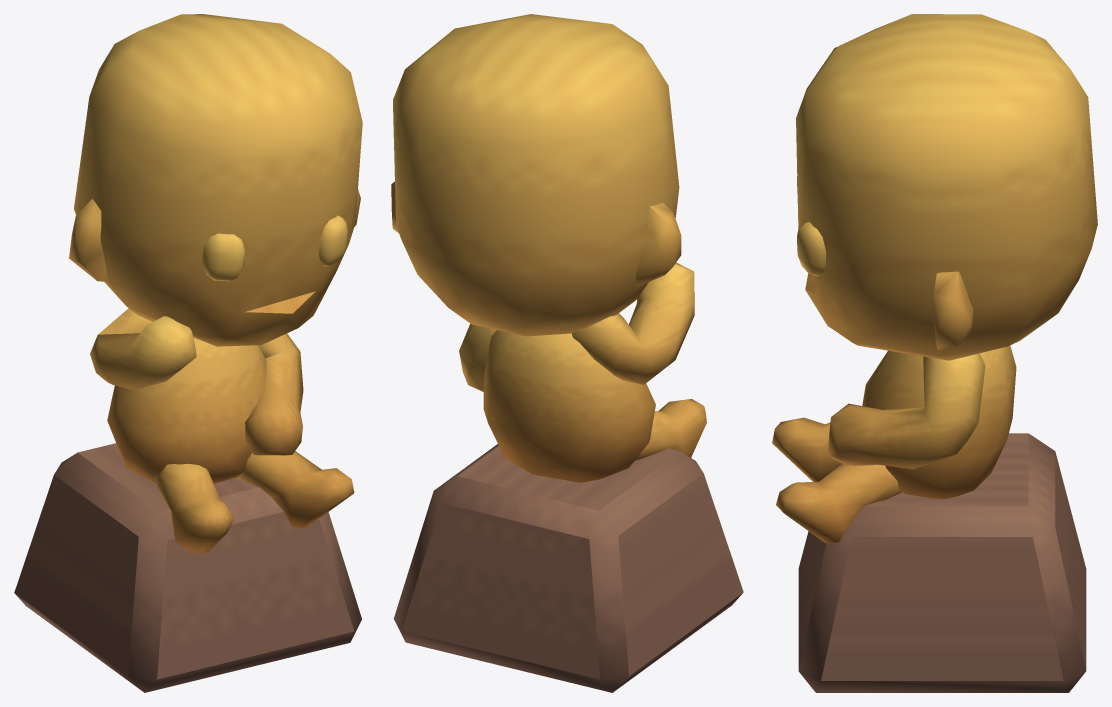
File: idol-b.glb
3 views of the same model, side by side, from view 1: azimuth 30°, elevation 25°; view 2: azimuth 150°, elevation 25°; view 3: azimuth 270°, elevation 25° (orthographic). The views are drawn at different scales.
Visible parts, largest first — view 1: idol_B; view 2: idol_B; view 3: idol_B.
Part boxes in pixels (x1,y1,x2,y2): idol_B: (14, 14, 362, 692); idol_B: (391, 14, 743, 692); idol_B: (772, 14, 1097, 692).
Size of the model in its own units: 0.3832 by 0.7334 by 0.3503.
Materials: 1 (1 with a texture image).
